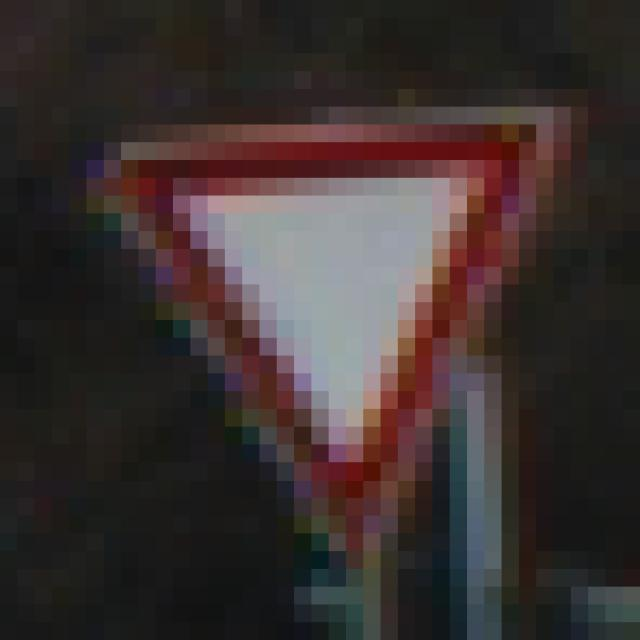Give Way: (88, 90, 537, 552)
